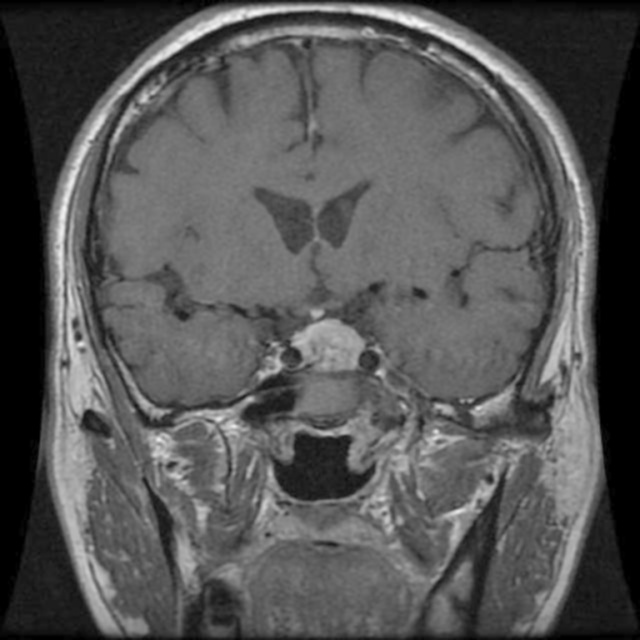no tumor: (284, 311, 378, 375)
